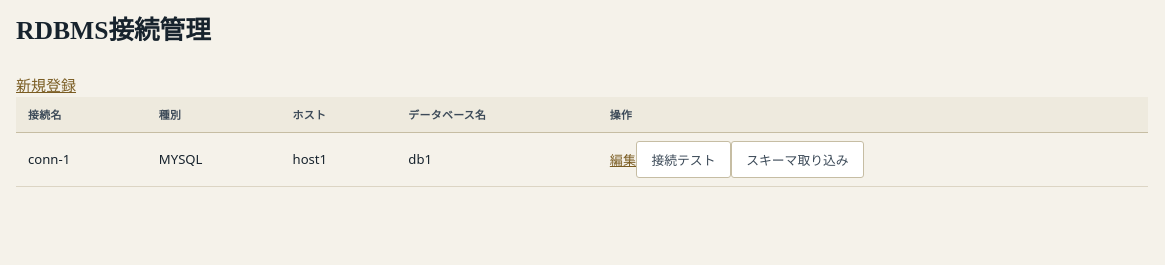
Test case: ConnectionListPage › shows a success toast when the connection test succeeds
The image size is (1165, 265).
Expected: the text "conn-1" is shown, [16,132,147,186]
Click the button with test id "connection-table-test-button" at (684, 159), box [636,141,731,178]
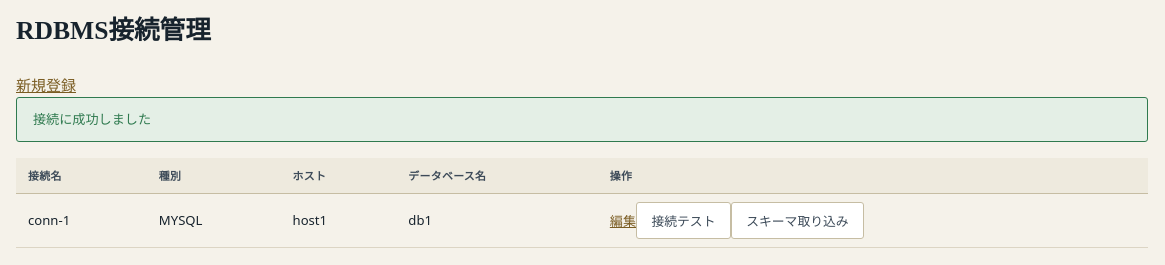
Expected: the message "接続に成功しました" is shown, [16,97,1148,142]
